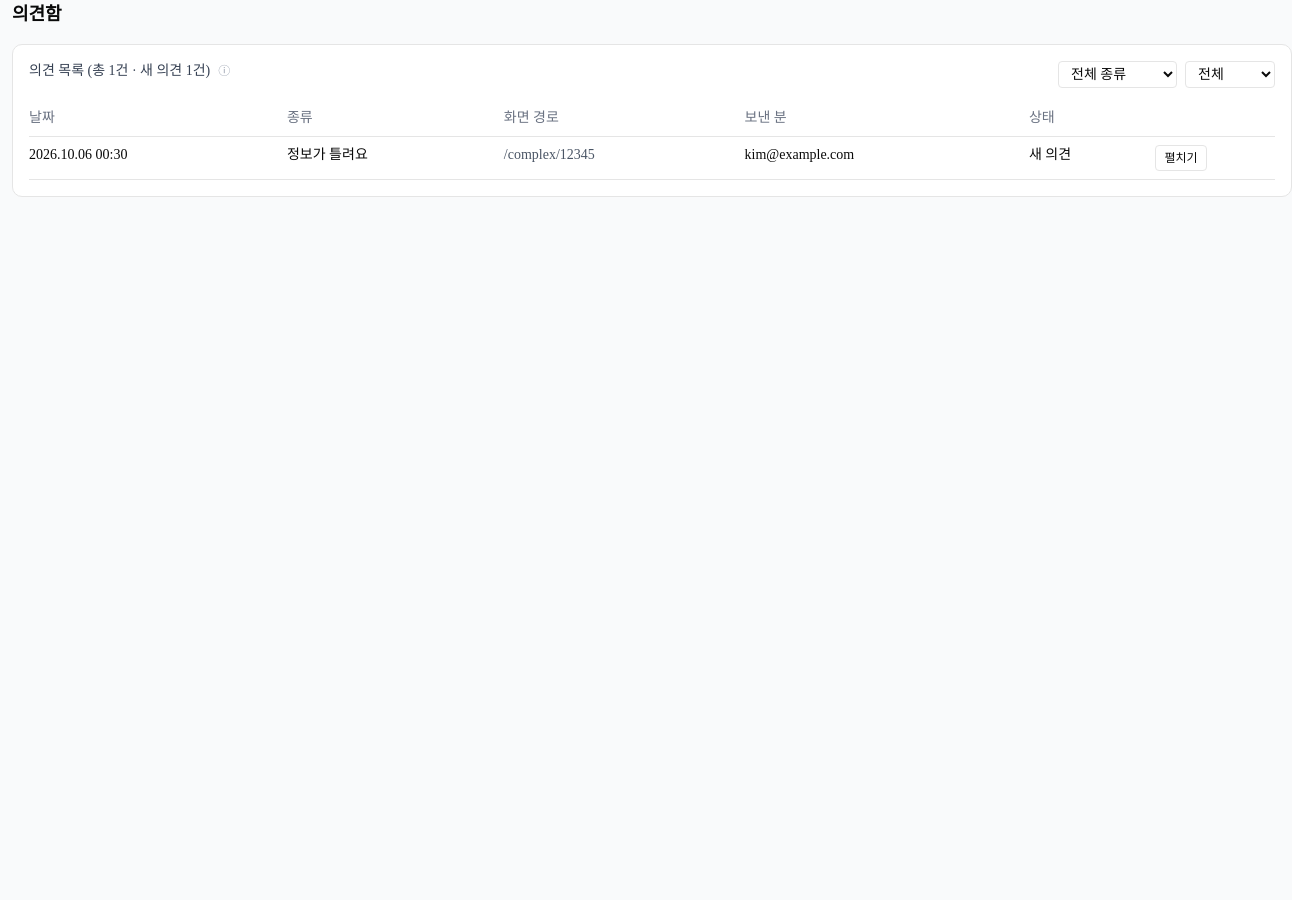
/admin/opinions 목록·필터 › 원문이 1년 정리로 비었으면 안내 문구를 보인다
What coordinates should you click on to do the following:
click the button "펼치기"
I would click on:
 (1181, 158)
Its box is x1=1156 y1=145 x2=1207 y2=171.
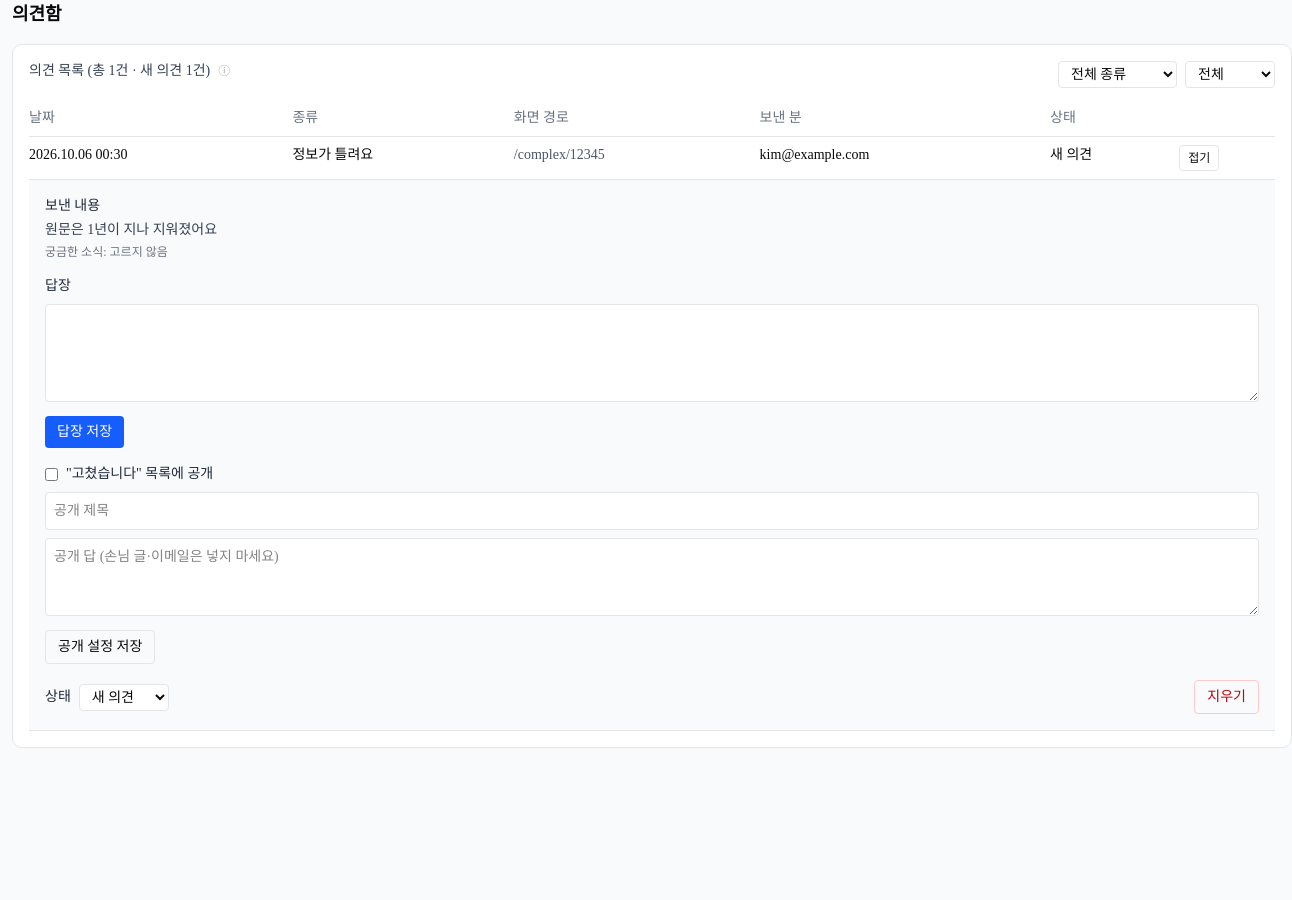
Expected: the text "원문은 1년이 지나 지워졌어요" is shown, x1=45 y1=222 x2=217 y2=237
Expected: the text "궁금한 소식: 고르지 않음" is shown, x1=45 y1=245 x2=168 y2=259
